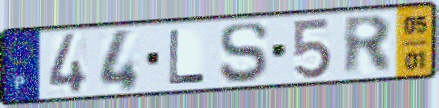4: (97, 27, 142, 94), (46, 31, 90, 96)
5: (291, 15, 335, 81)
L: (166, 28, 207, 87)
R: (341, 14, 395, 78)
S: (217, 20, 271, 86)
